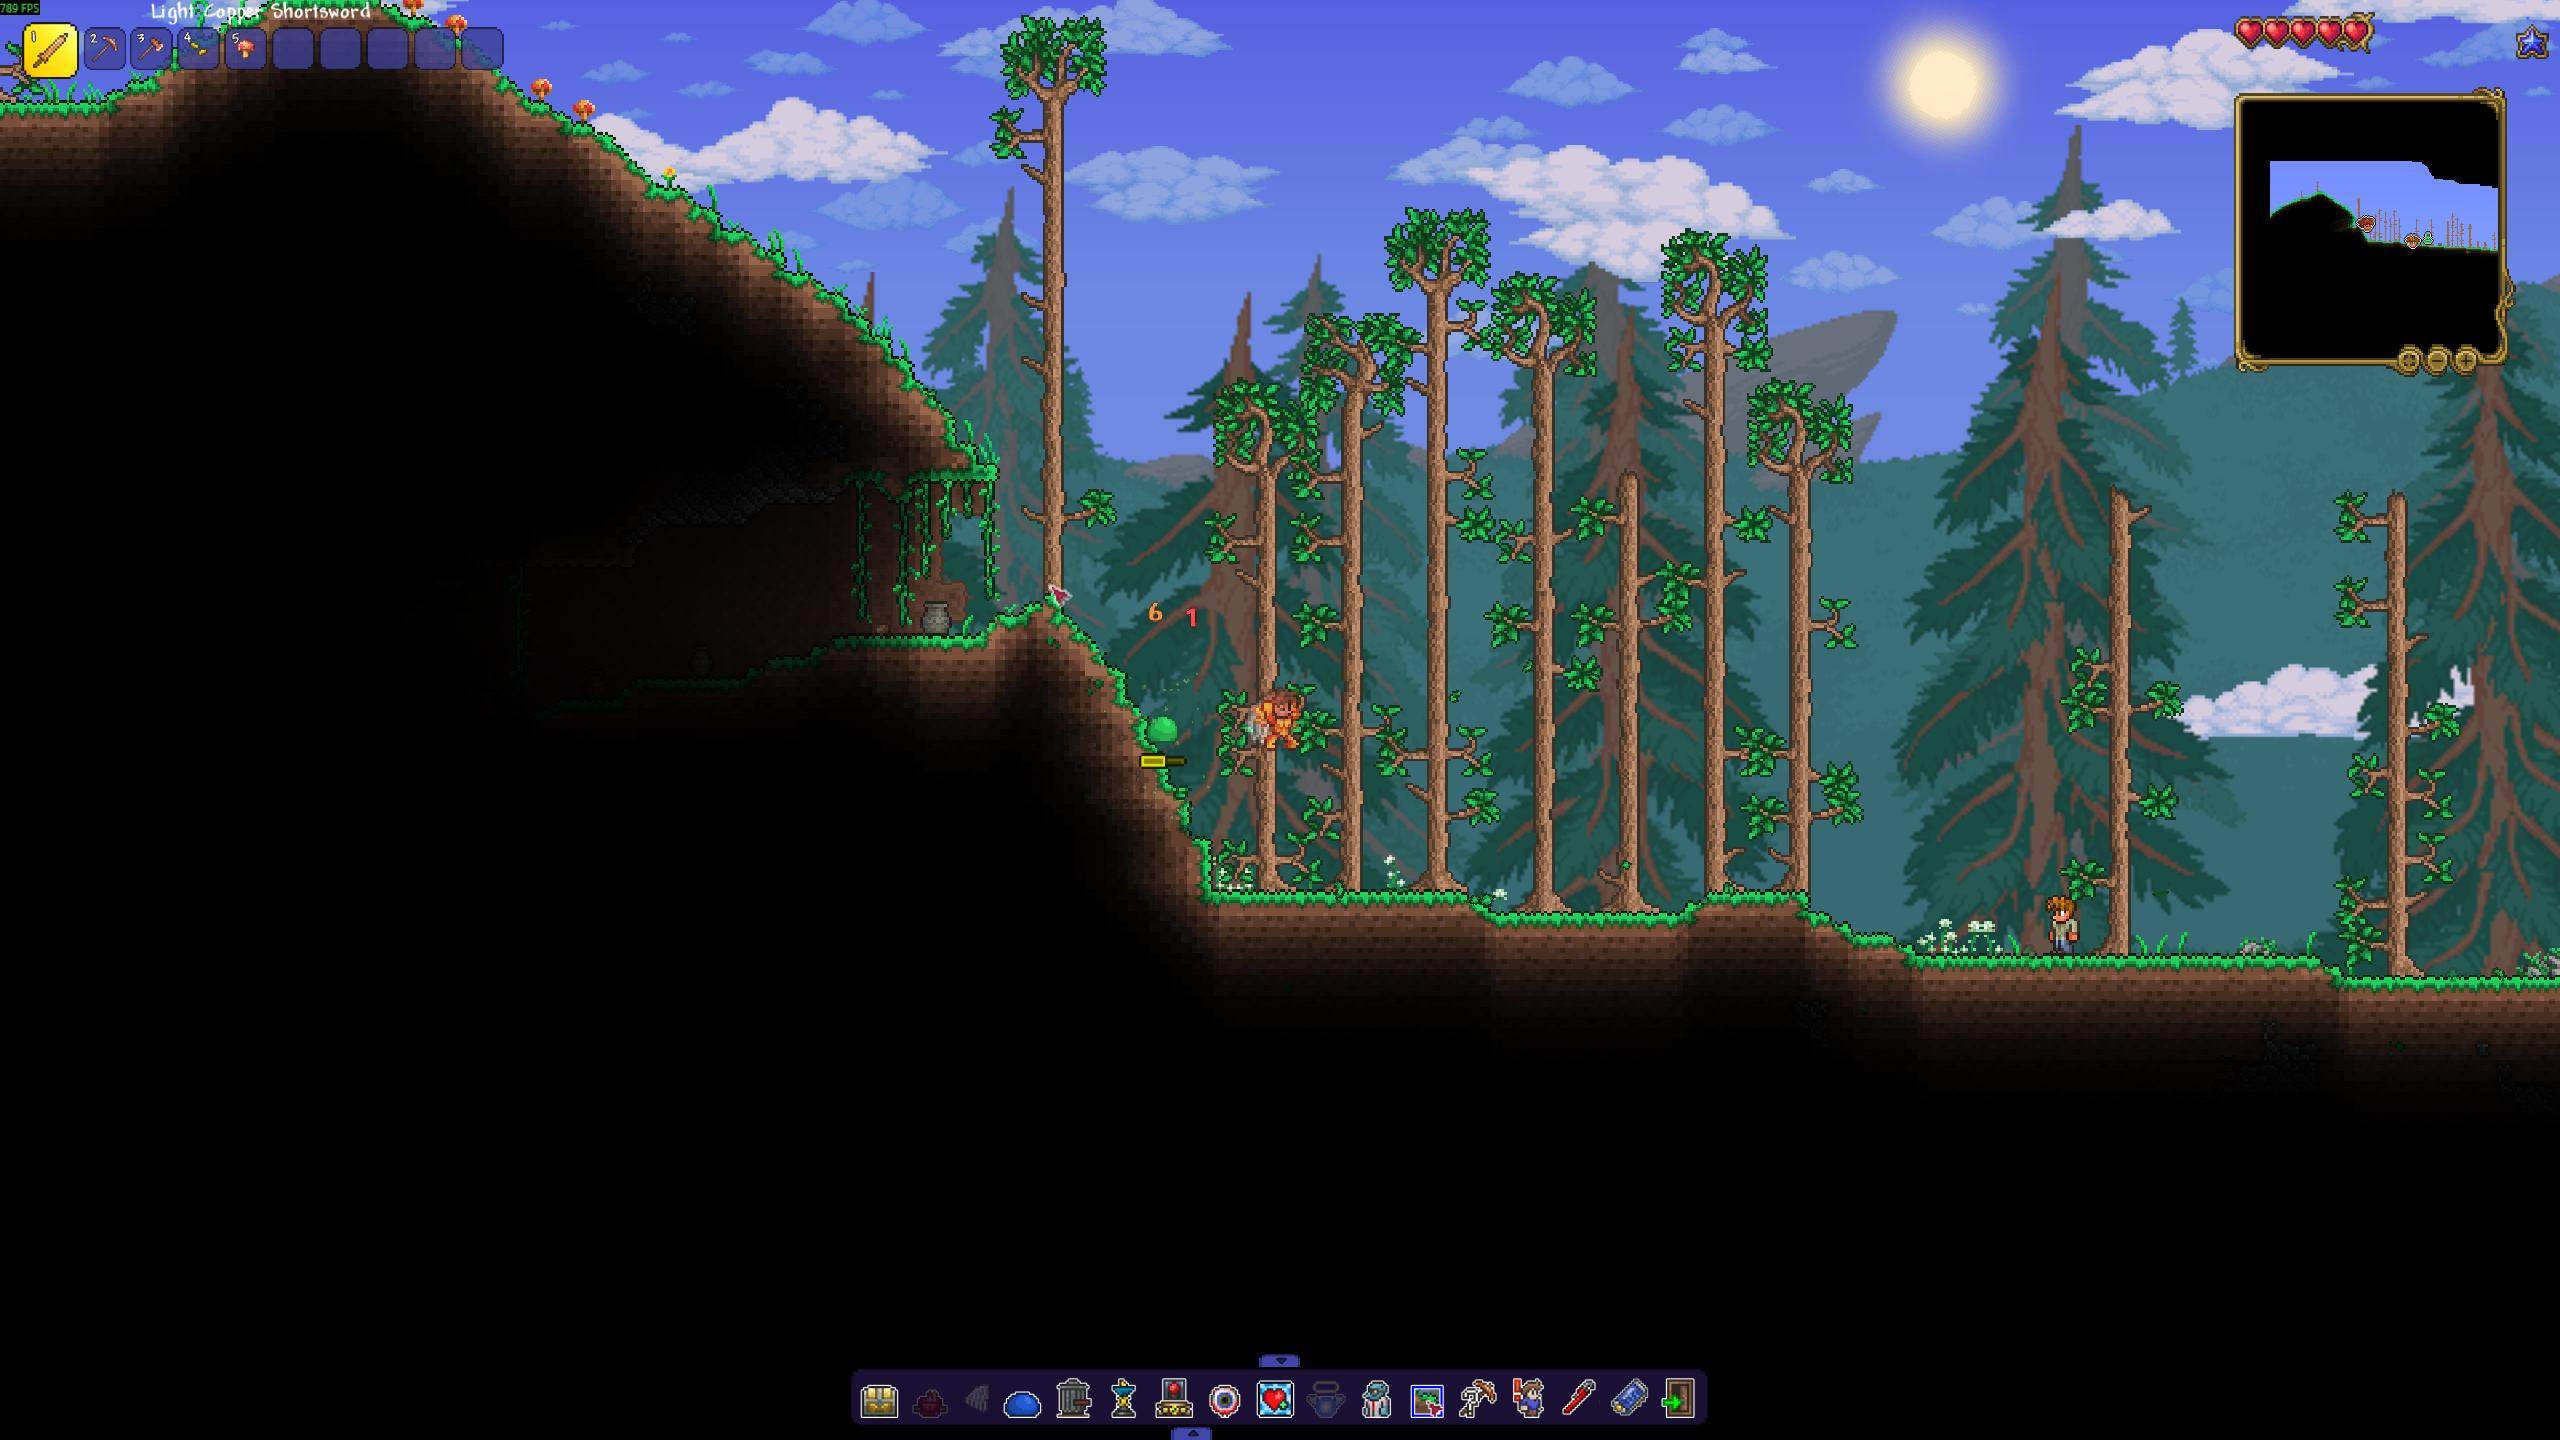Green Slime: (1143, 714, 1180, 745)
